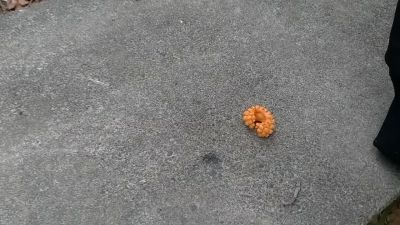eggs: (242, 105, 275, 138)
